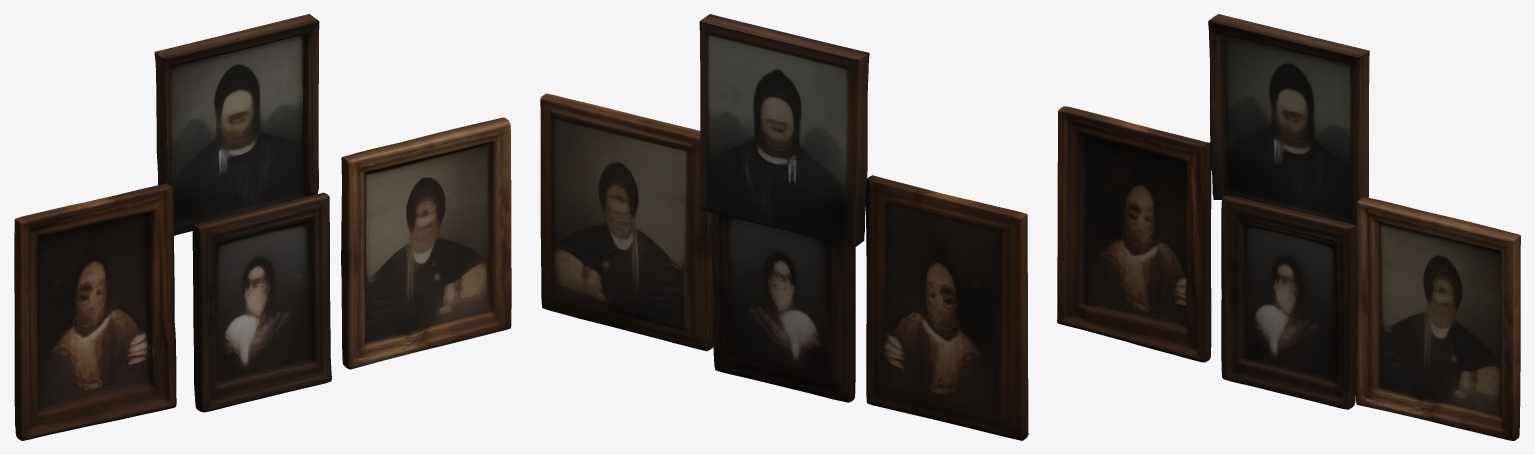
Rendered from portraits.glb.
3 views of the same model, side by side, from view 1: azimuth 30°, elevation 25°; view 2: azimuth 150°, elevation 25°; view 3: azimuth 330°, elevation 25° (orthographic). The views are drawn at different scales.
Visible parts, largest first — view 1: geometry_0; view 2: geometry_0; view 3: geometry_0.
Part boxes in pixels (box(x1,y1,x2,y2)): geometry_0: box(14, 14, 511, 440); geometry_0: box(540, 14, 1028, 440); geometry_0: box(1057, 14, 1520, 440).
Bounding box in the file's own units: 1 × 0.703 × 0.0991.
1 material, 1 textured.
